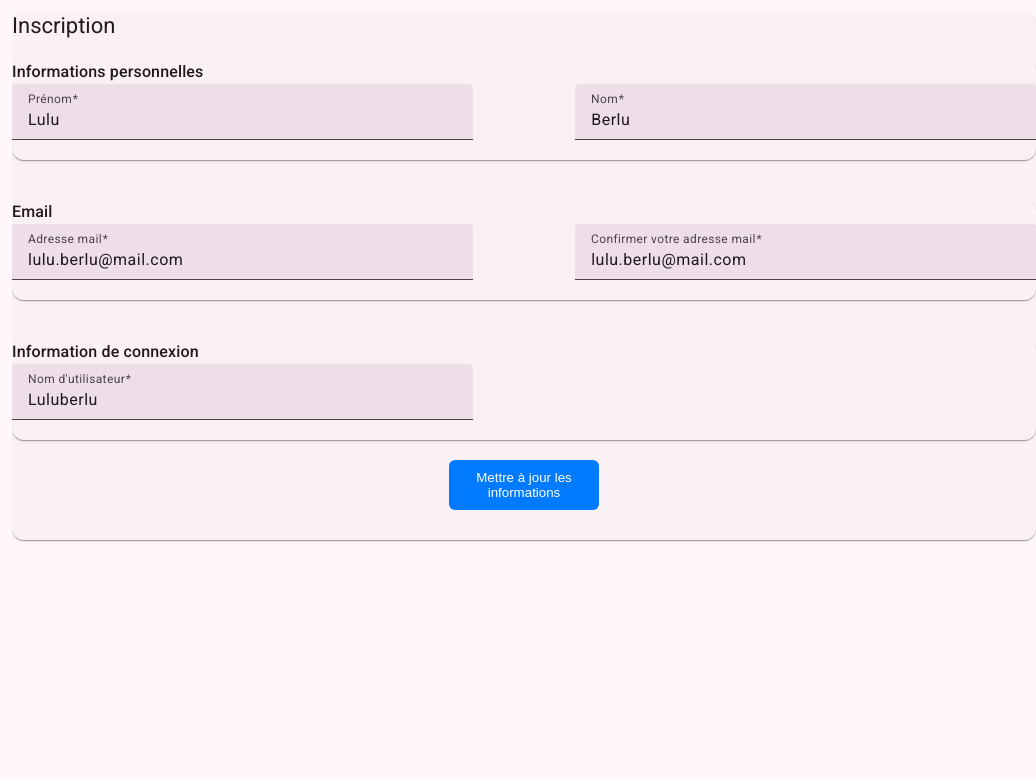
it: Sign-InComponent › Formulaire de mise à jour › le bouton devrait être désactivé si le formulaire est invalide
Step 1. Clear the field labelled "Adresse mail" → [242, 260], box [28,248,457,272]
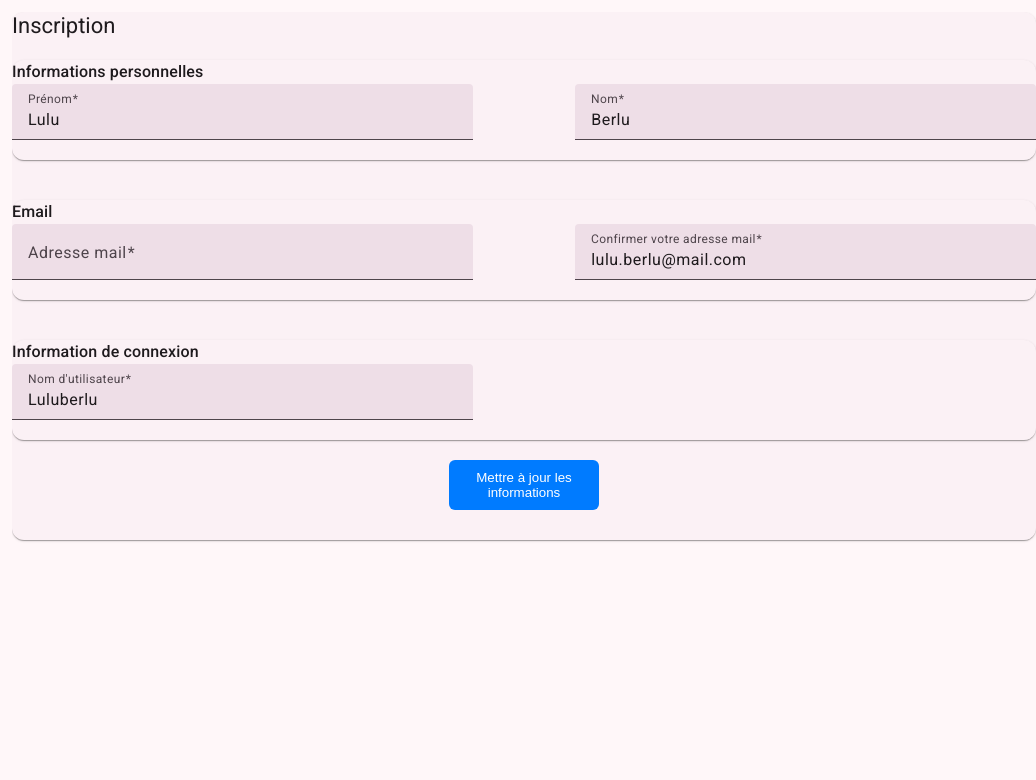
Step 2. Leave the field labelled "Adresse mail", box [28,248,457,272]
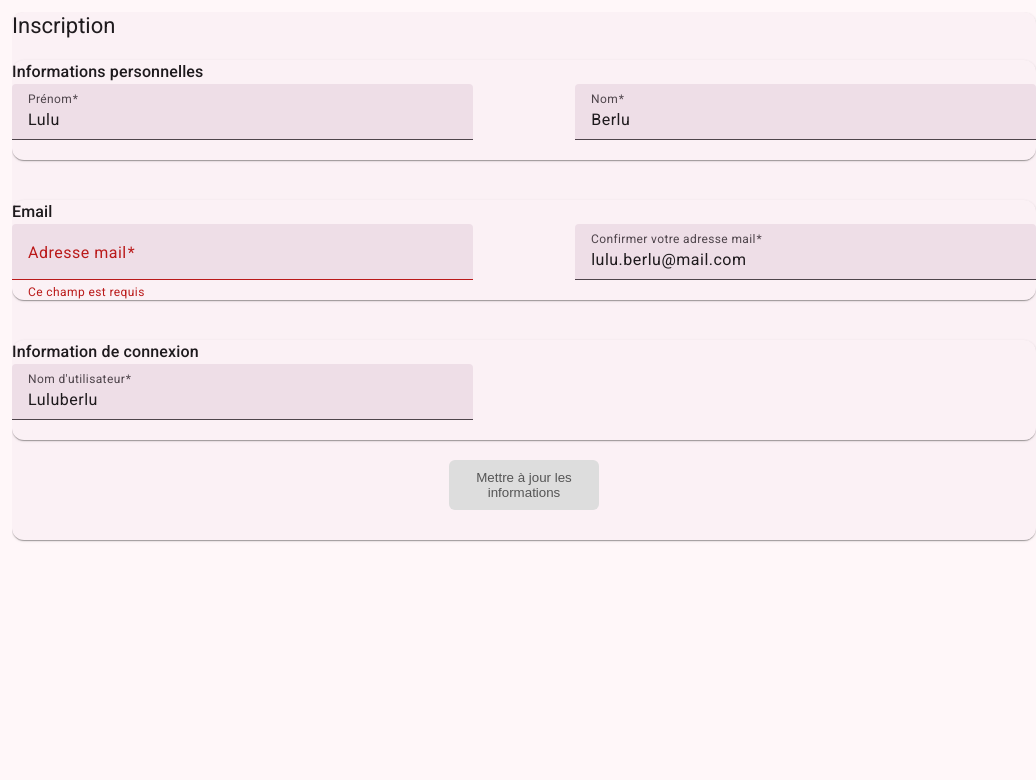
Result: the button "Mettre à jour les informations" is disabled at [449,460,599,510]
